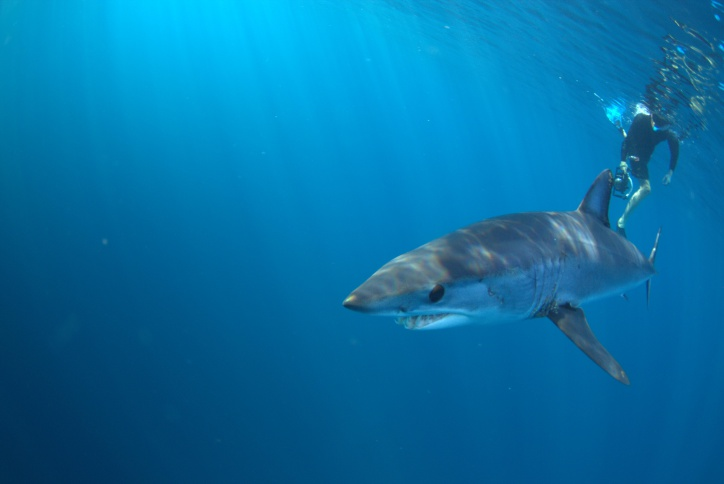Mako: (327, 160, 683, 392)
